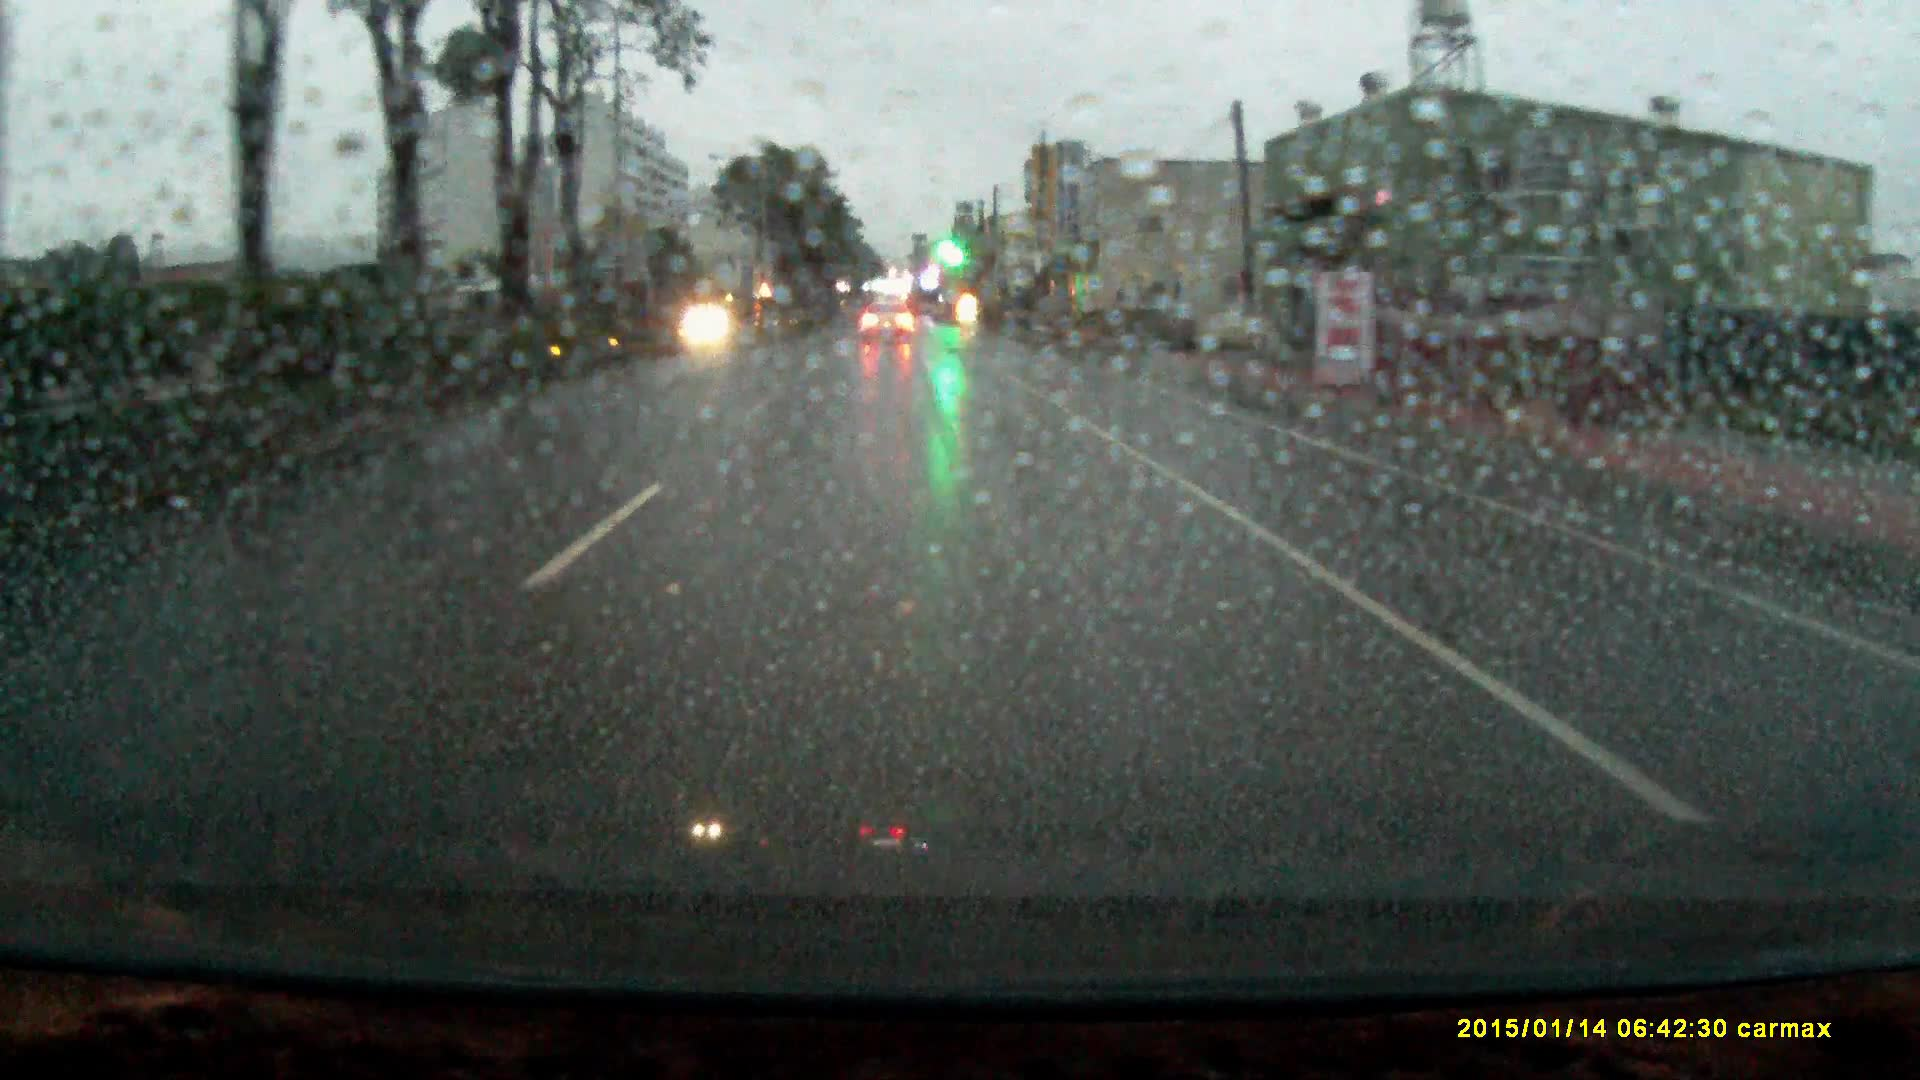vehicle: (861, 301, 914, 345)
